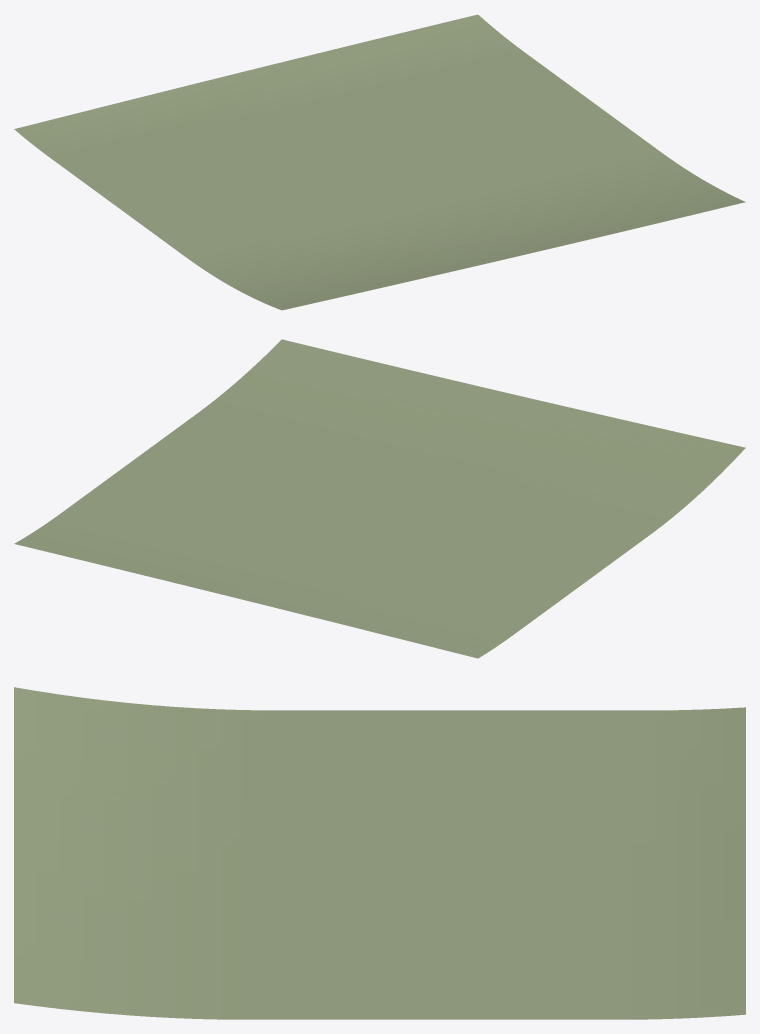
The model's file is valley-2-8.glb.
3 renders of one model, top to bottom at view 1: azimuth 30°, elevation 25°; view 2: azimuth 150°, elevation 25°; view 3: azimuth 270°, elevation 25°, orthographic. The views are drawn at different scales.
Visible parts, largest first — view 1: valley-2-8; view 2: valley-2-8; view 3: valley-2-8.
Part boxes in pixels (x1=…): valley-2-8: x1=14, y1=14, x2=745, y2=310; valley-2-8: x1=14, y1=339, x2=745, y2=658; valley-2-8: x1=14, y1=687, x2=745, y2=1019.
Bounding box in the file's own units: 256 × 8.98 × 256.
